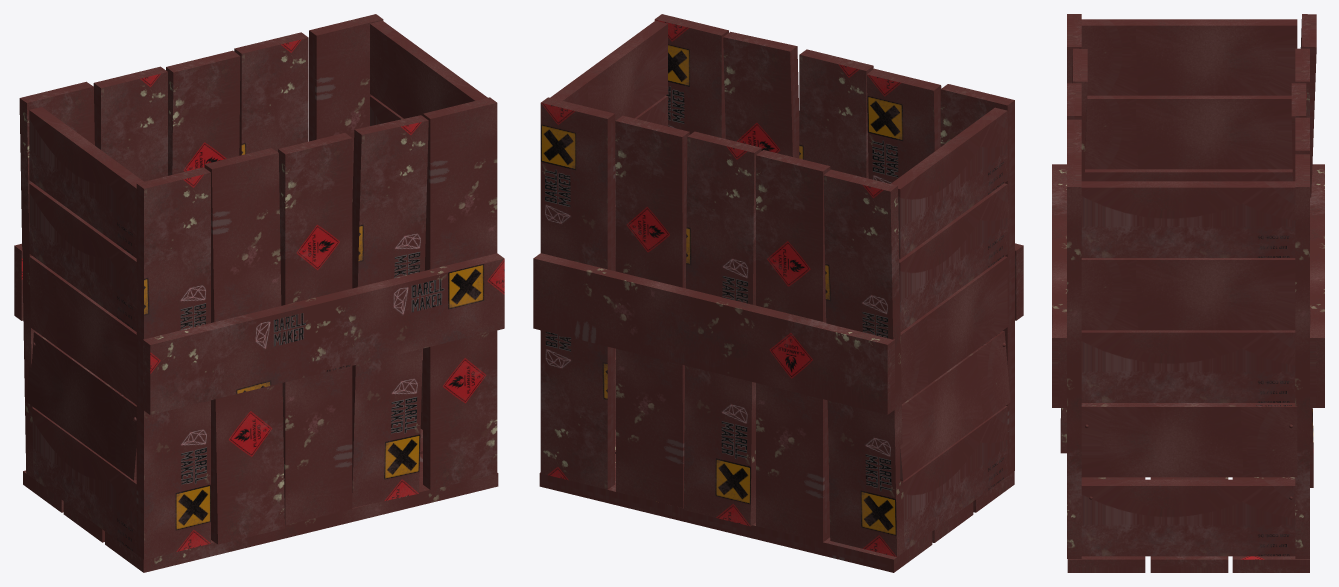
3 views of the same model, side by side, from view 1: azimuth 30°, elevation 25°; view 2: azimuth 150°, elevation 25°; view 3: azimuth 270°, elevation 25° (orthographic).
Parts seen in each view (by area): view 1: SM_box_03; view 2: SM_box_03; view 3: SM_box_03.
Part boxes in pixels (left/top/right/bottom): SM_box_03: left=14, top=14, right=504, bottom=572; SM_box_03: left=533, top=14, right=1023, bottom=572; SM_box_03: left=1052, top=14, right=1324, bottom=572.
Bounding box in the file's own units: 92.3 × 60.52 × 94.6.
